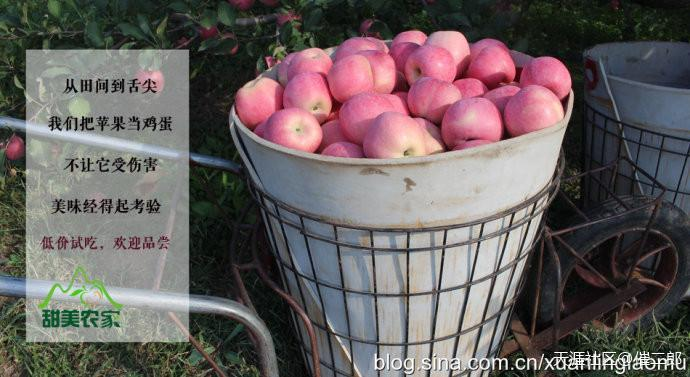apple: (503, 84, 563, 137), (260, 107, 324, 154), (363, 109, 427, 156), (440, 98, 504, 145), (408, 78, 462, 121), (283, 70, 330, 117), (327, 54, 374, 101), (235, 78, 282, 125), (519, 56, 571, 96), (404, 44, 456, 84), (465, 46, 515, 86)
